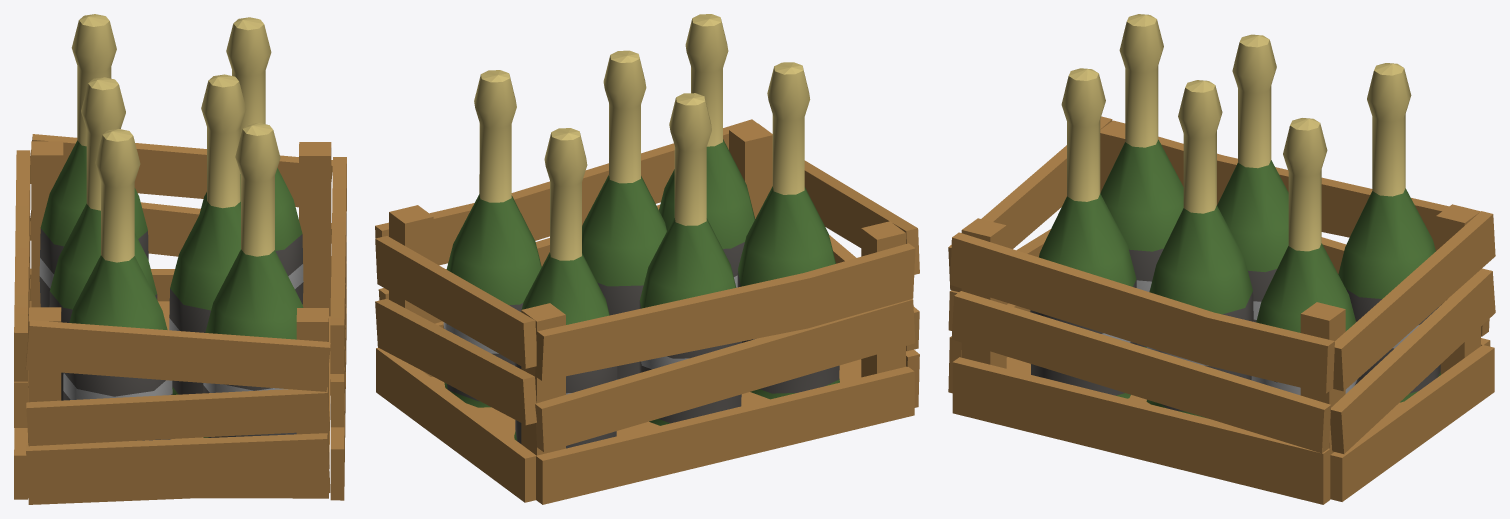
The model's file is shampagne_box.fbx.
The picture shows the model from 3 angles, left to right: view 1: azimuth 30°, elevation 25°; view 2: azimuth 150°, elevation 25°; view 3: azimuth 270°, elevation 25°; orthographic projection.
Parts seen in each view (by area): view 1: polySurface674; view 2: polySurface674; view 3: polySurface674.
Part boxes in pixels (<box>): polySurface674: <box>14,14,346,504</box>; polySurface674: <box>375,14,919,504</box>; polySurface674: <box>948,14,1495,504</box>.
Size of the model in its own units: 72.4 by 52.45 by 78.38.
